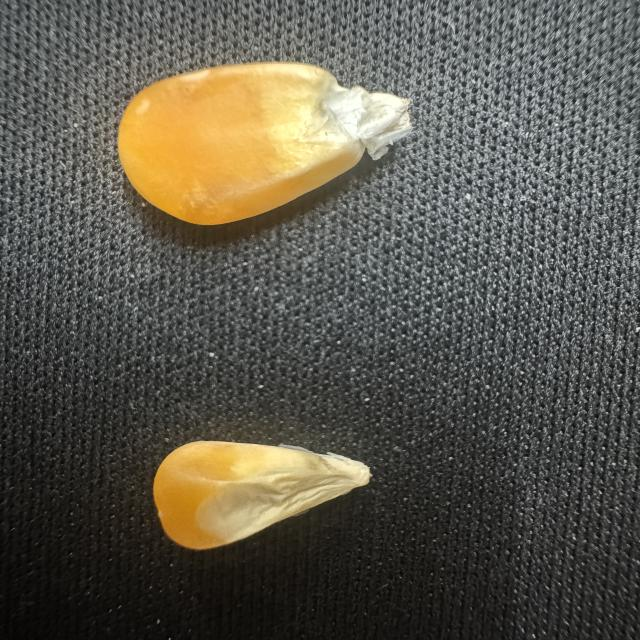Bad-Seed: (149, 434, 387, 556)
Good-Seed: (113, 56, 430, 229)
